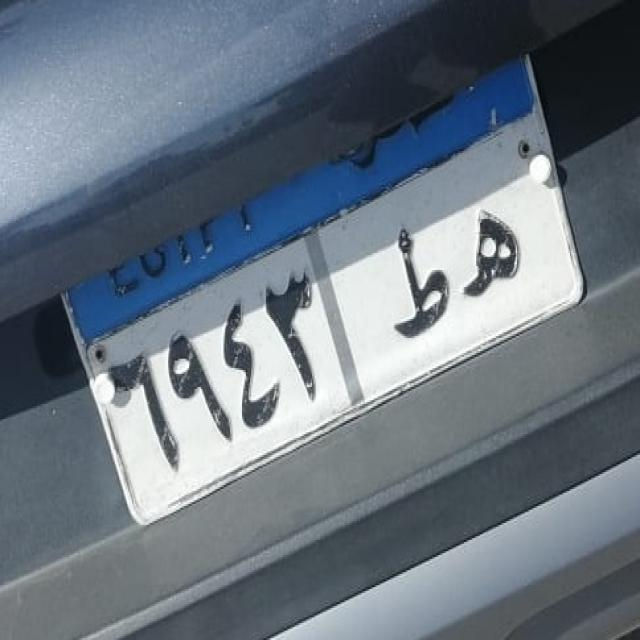3: (262, 276, 330, 404)
4: (221, 305, 281, 431)
6: (110, 354, 182, 476)
9: (167, 326, 238, 448)
Heeh: (460, 212, 524, 306)
Taa: (386, 222, 448, 338)
